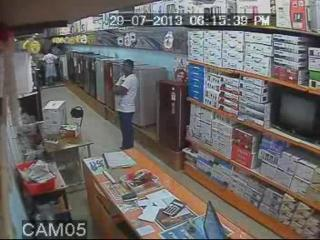Normal: (112, 59, 138, 151), (42, 48, 58, 86)
